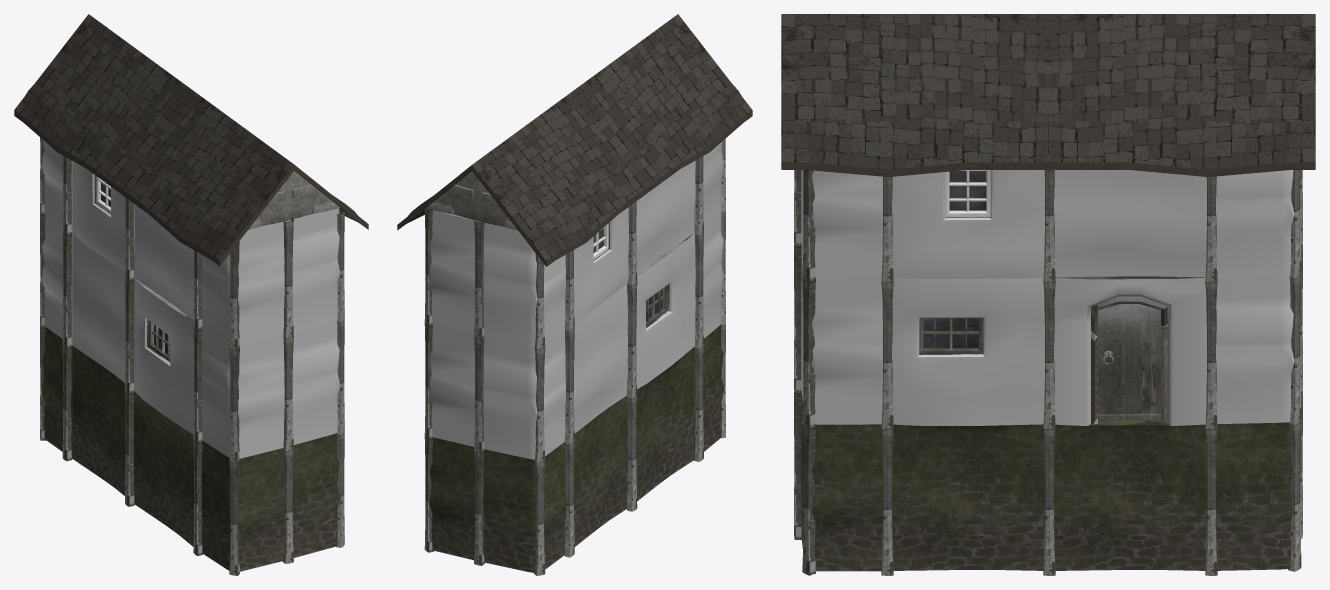
The model's file is Village2_houe1.fbx.
3 views of the same model, side by side, from view 1: azimuth 30°, elevation 25°; view 2: azimuth 150°, elevation 25°; view 3: azimuth 270°, elevation 25° (orthographic). The views are drawn at different scales.
Parts seen in each view (by area): view 1: roof.096, roof.094, Wall.031, Underground.009, Wall.033, Underground, Underground.008, Wall.037, Wall.039, Roof_long_strip_low.044, Wall.030, Wall.025 (+30 smaller); view 2: roof.094, roof.096, Underground.007, Wall.034, Wall.036, Underground, Underground.008, Wall.037, Wall.039, Roof_long_strip_low.042, Roof_long_strip_low.044, Wall.029 (+30 smaller); view 3: roof.095, roof.097, Underground.006, Underground.011, Wall.017, Wall.028, Wall.027, Roof_long_strip_low.043, Roof_long_strip_low.045, Wall.024, Underground.005, Wall.018 (+27 smaller).
Boxes of the visible parts, x1,y1,x2,y2 form: roof.096: (138, 89, 294, 239); roof.094: (35, 14, 191, 158); Wall.031: (201, 327, 284, 458); Underground.009: (201, 440, 284, 571); Wall.033: (201, 221, 286, 345); Underground: (134, 392, 193, 546); Underground.008: (72, 346, 134, 503); Wall.037: (133, 279, 193, 434); Wall.039: (72, 233, 134, 390); Roof_long_strip_low.044: (117, 159, 240, 265); Wall.030: (287, 208, 340, 331); Wall.025: (292, 320, 340, 444); roof.094: (472, 90, 628, 239); roof.096: (575, 14, 731, 158); Underground.007: (483, 442, 566, 572); Wall.034: (483, 328, 566, 459); Wall.036: (479, 222, 565, 346); Underground: (636, 347, 694, 501); Underground.008: (574, 396, 627, 546); Wall.037: (636, 233, 694, 389); Wall.039: (574, 283, 627, 433); Roof_long_strip_low.042: (526, 159, 649, 266); Roof_long_strip_low.044: (629, 84, 752, 190); Wall.029: (428, 209, 479, 333); roof.095: (1048, 14, 1315, 121); roof.097: (781, 14, 1048, 121); Underground.006: (1054, 424, 1206, 570); Underground.011: (892, 424, 1044, 570); Wall.017: (892, 277, 1044, 425); Wall.028: (1054, 170, 1206, 277); Wall.027: (892, 170, 1044, 278); Roof_long_strip_low.043: (1048, 121, 1315, 176); Roof_long_strip_low.045: (781, 121, 1048, 176); Wall.024: (1054, 277, 1206, 425); Underground.005: (1216, 422, 1294, 570); Wall.018: (1216, 275, 1294, 423).
Bounding box in the file's own units: 276 × 713 × 660.
